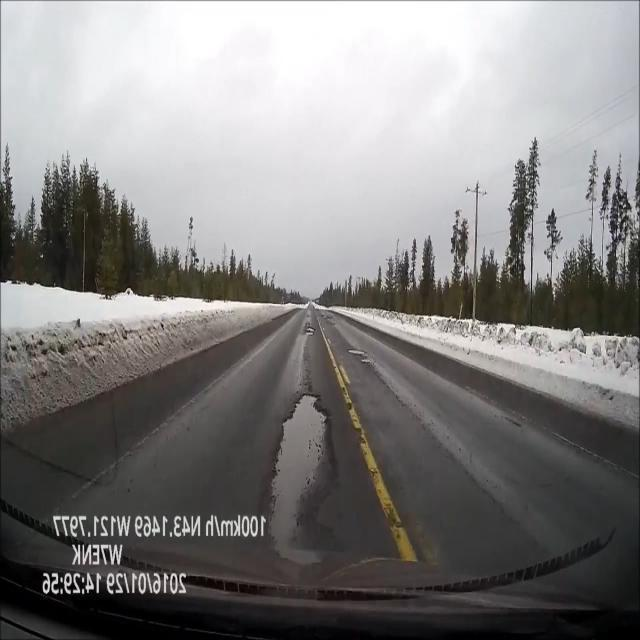pothole: (268, 389, 336, 582), (348, 344, 375, 366), (304, 310, 316, 337)
